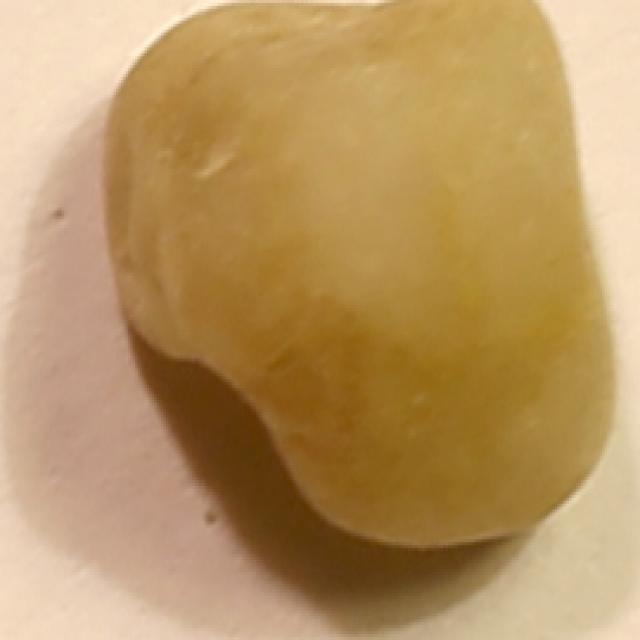stone: (99, 0, 640, 555)
